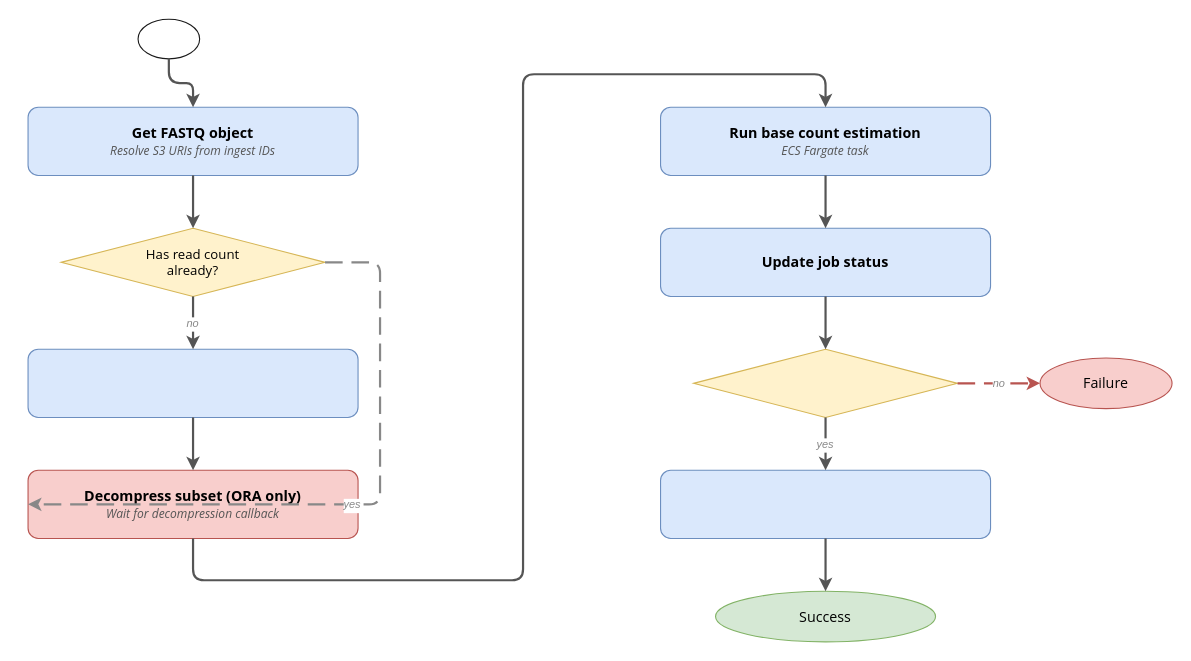
Some shapes in this 1191 by 661 pixel diagram are drawn without their labels. The shapes that lost their labels are listed below. From the top down, each one's centre as x and y in pixels, then its label:
At (168,38): "Start".
At (192,382): "Compute read count ECS (gzip) or wait for callback (ORA)".
At (825,382): "Job succeeded?".
At (825,503): "Update FASTQ record Persist read count + base count".
